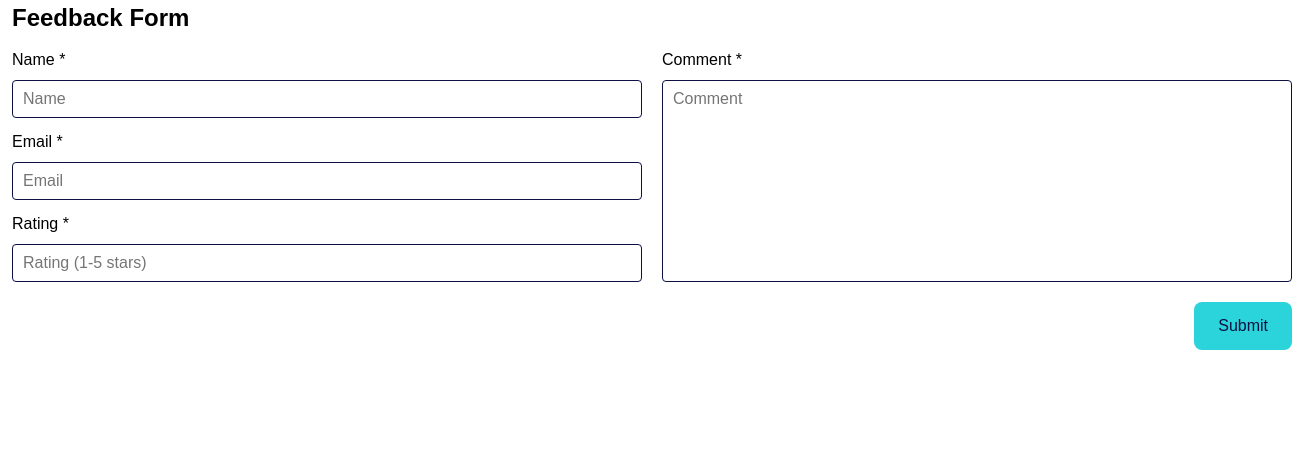
Test: Feedback Form › shows error messages
The image size is (1304, 451).
Type "test wrong email" into the field labelled "Email *".
click(327, 181); type("test wrong email")  # box [12, 162, 642, 200]
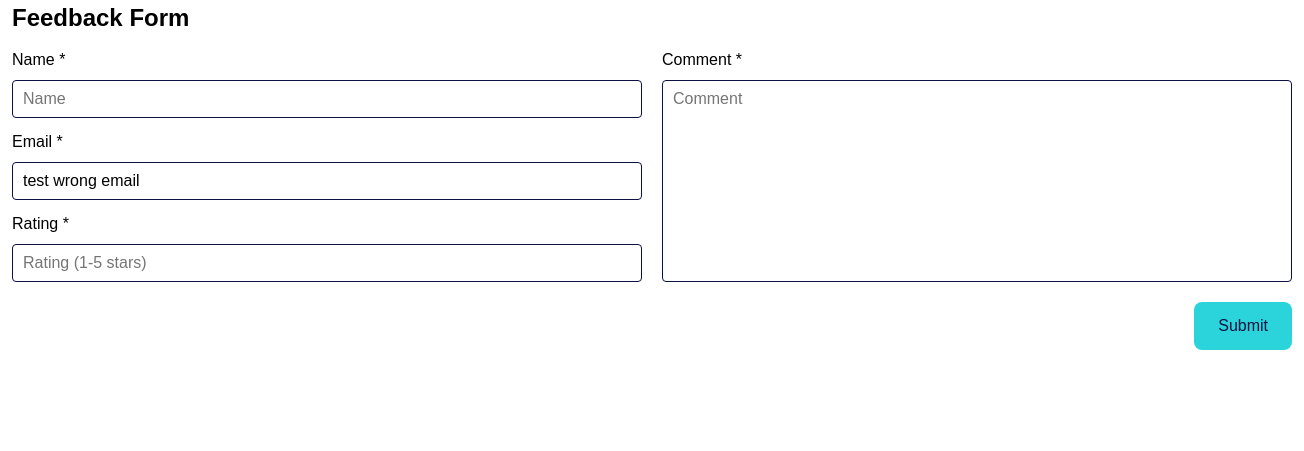
Type "6" into the number field labelled "Rating *".
click(327, 263); type("6")  # box [12, 244, 642, 282]
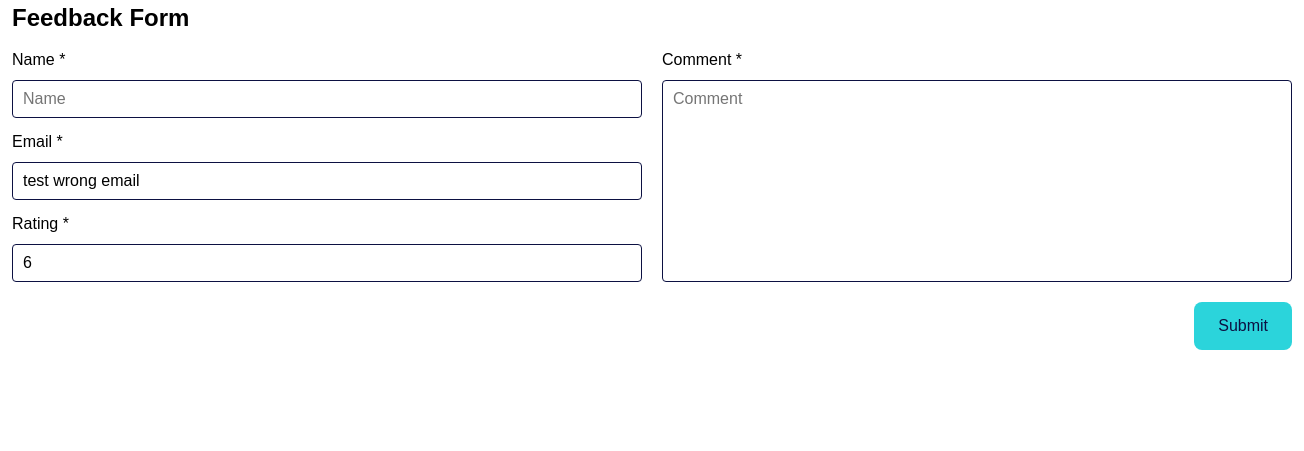
Click the button "Submit".
click(1243, 326)  # box [1194, 302, 1292, 350]
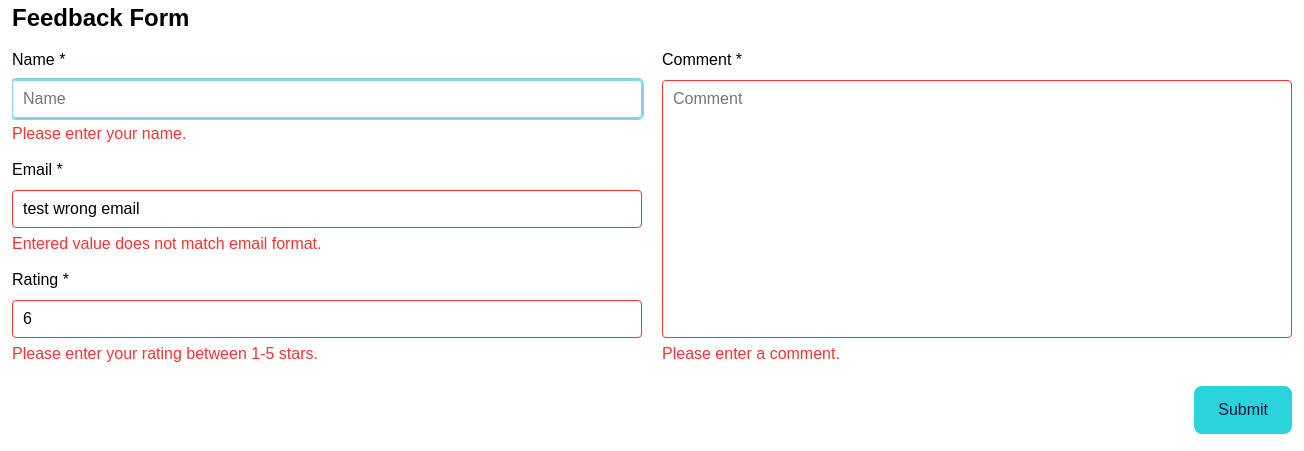
Check: the text "Entered value does not match email format." is shown, box [12, 235, 322, 252]
Check: the text "Please enter a comment." is shown, box [662, 345, 840, 362]
Check: the text "Please enter your rating between 1-5 stars." is shown, box [12, 345, 318, 362]
